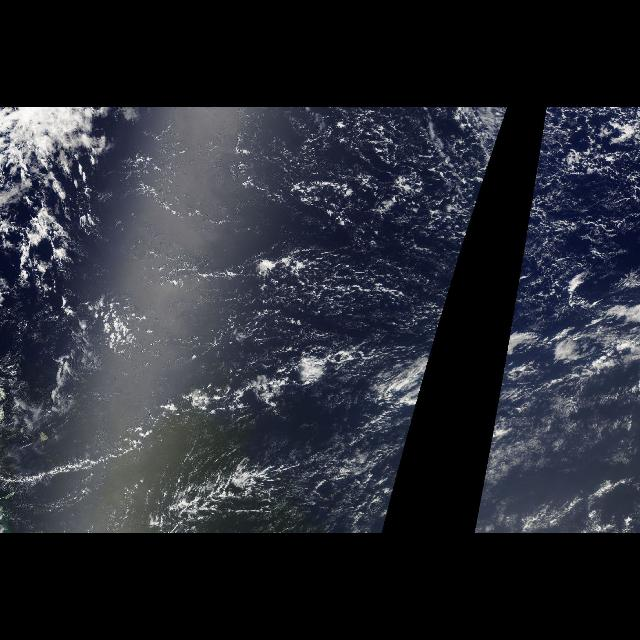Gravel: (235, 126, 440, 422)
